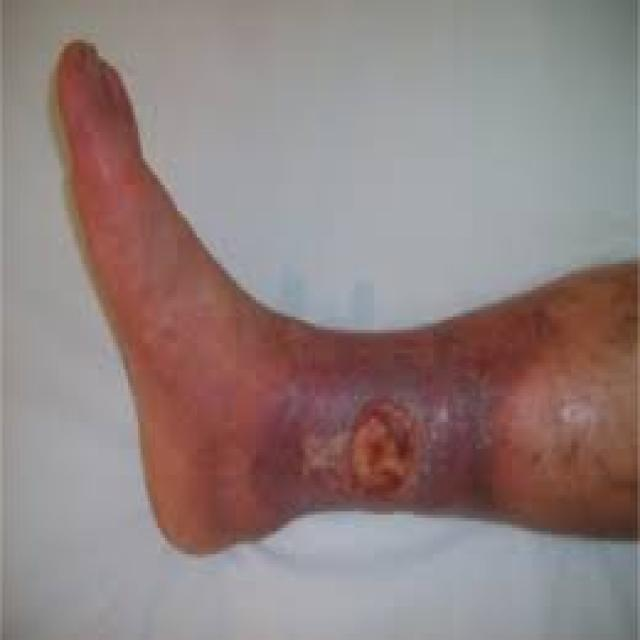Eczema: (266, 339, 498, 510)
